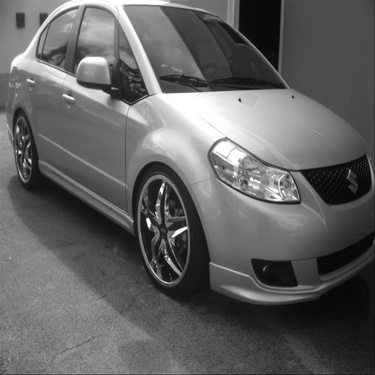car: (10, 1, 371, 308)
